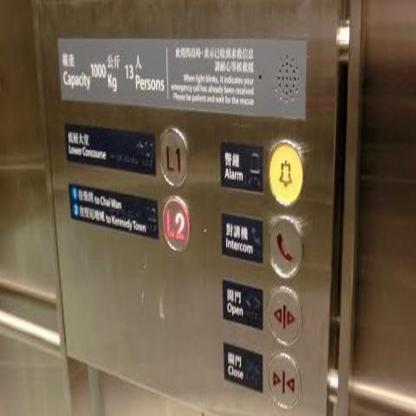L1: (158, 126, 189, 186)
L2: (161, 194, 190, 252)
alarm: (266, 138, 303, 206)
call: (267, 216, 303, 277)
close: (265, 351, 301, 408)
open: (266, 285, 302, 346)
